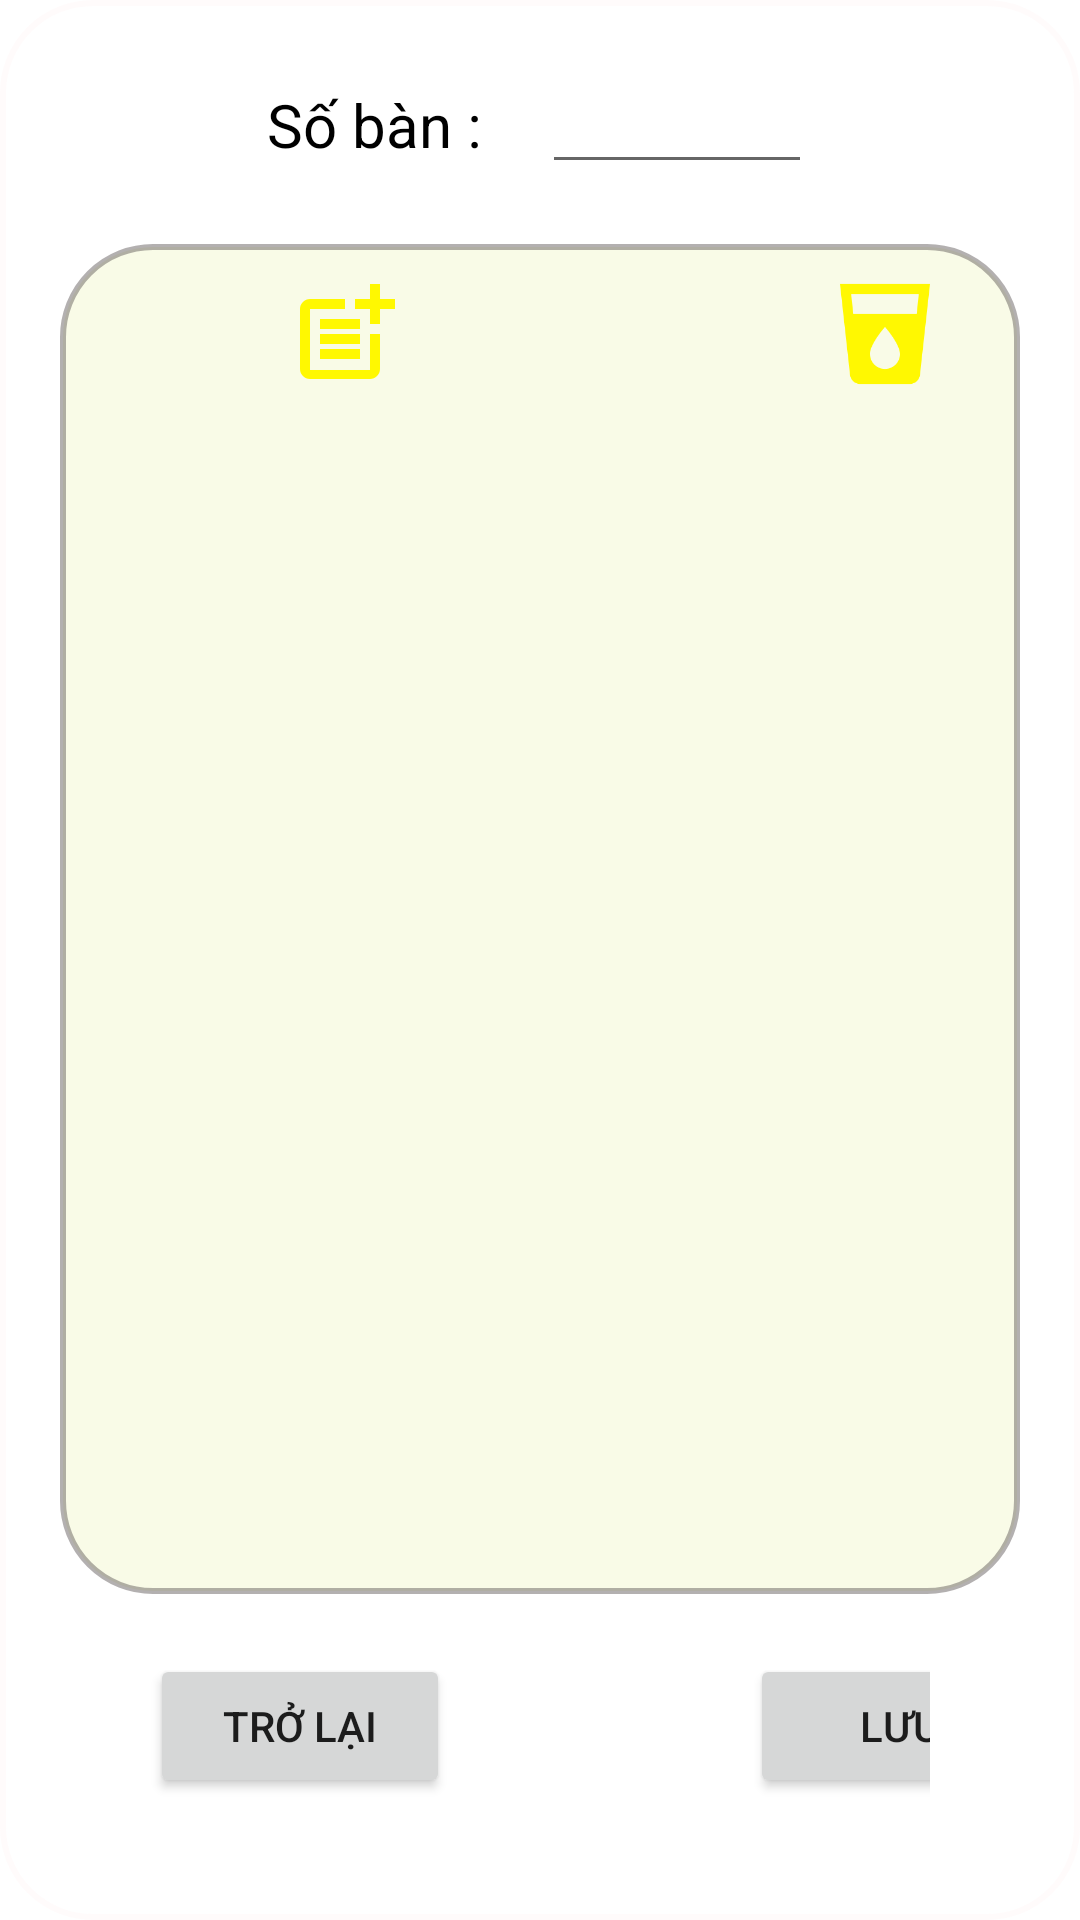

Where to tap for icons on this 1080w x 1920h app screen, as [x,y]:
add food: [347,331]
